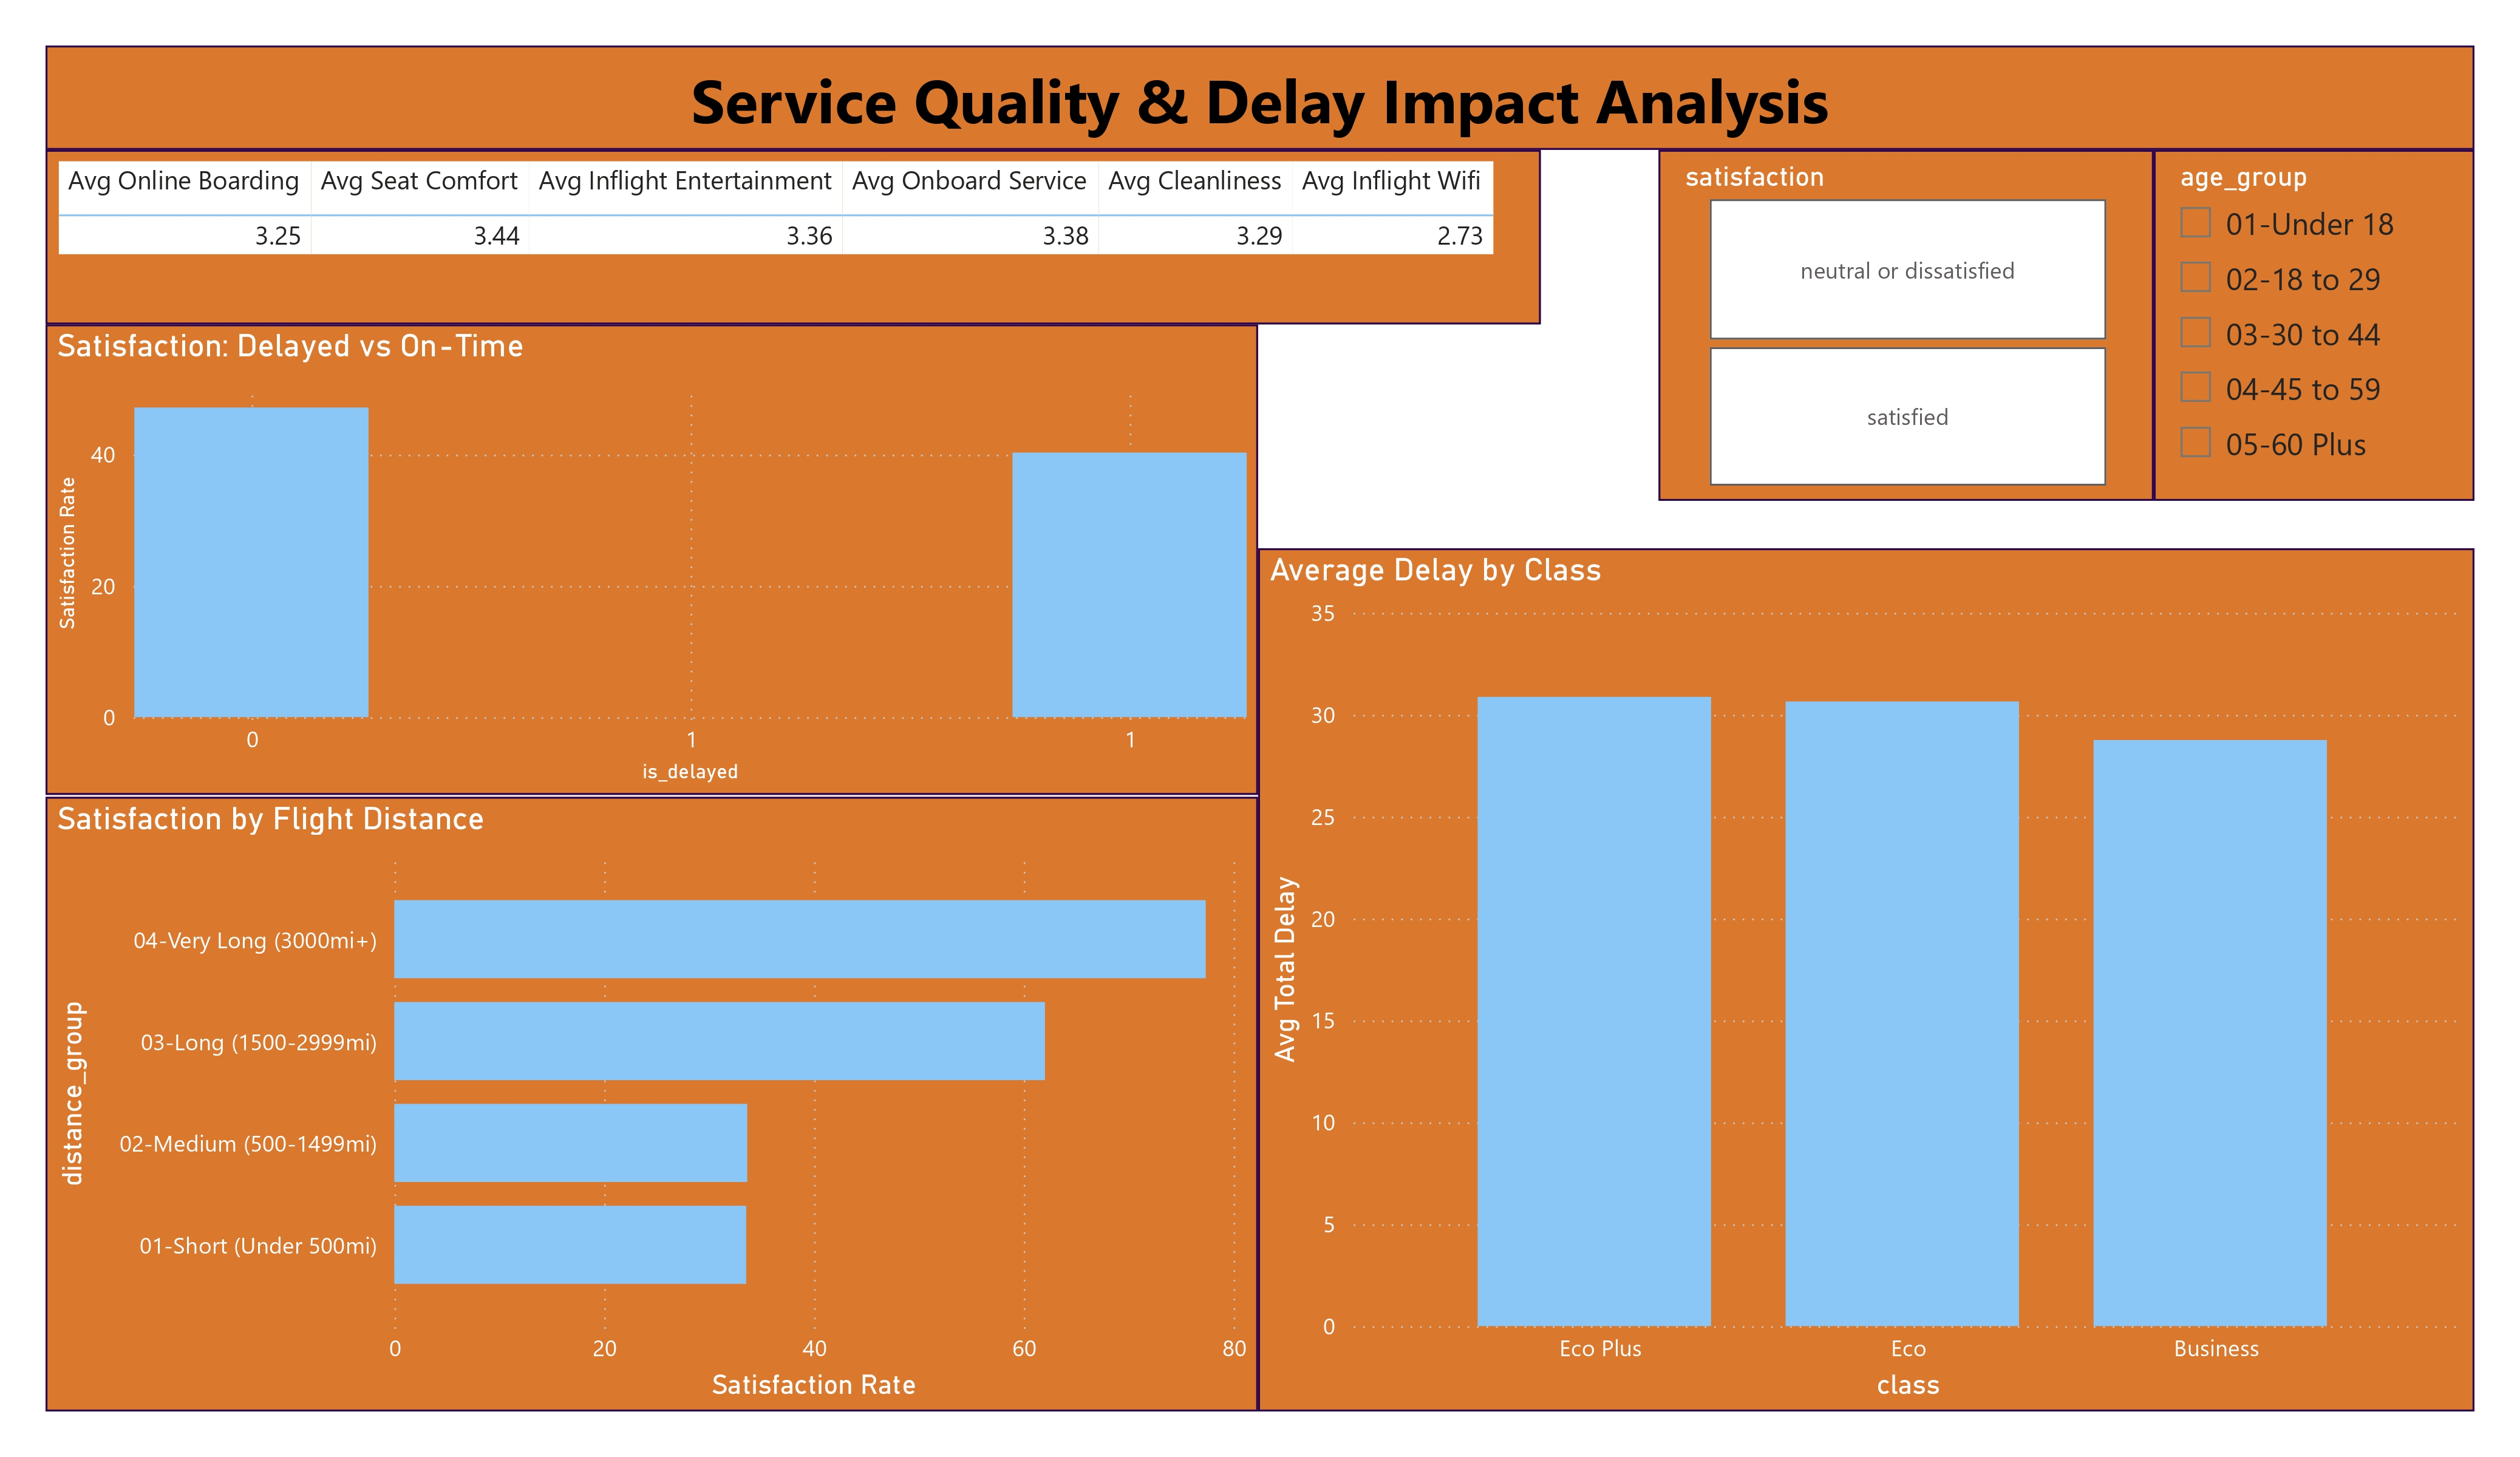

This screenshot's page, from the dashboard's own definition file:
{"tool":"powerbi","page":{"name":"Service Quality & Delay Impact","canvas":[1280,720],"ordinal":1},"visuals":[{"type":"textbox","box":[0,0,1280.3,54.6],"z":0},{"type":"tableEx","fields":{"Values":["airline_project airline_satisfaction.Avg Online Boarding","airline_project airline_satisfaction.Avg Seat Comfort","airline_project airline_satisfaction.Avg Inflight Entertainment","airline_project airline_satisfaction.Avg Onboard Service","airline_project airline_satisfaction.Avg Cleanliness","airline_project airline_satisfaction.Avg Inflight Wifi"]},"box":[0,54.5,788.1,92.4],"z":1000},{"type":"clusteredColumnChart","title":"Satisfaction: Delayed vs On-Time","fields":{"Category":["airline_project airline_satisfaction.is_delayed"],"Y":["airline_project airline_satisfaction.Satisfaction Rate"]},"box":[0,146.9,639,248.2],"z":2000},{"type":"clusteredBarChart","title":"Satisfaction by Flight Distance","fields":{"Y":["airline_project airline_satisfaction.Satisfaction Rate"],"Category":["airline_project airline_satisfaction.distance_group"]},"box":[0,395.6,639.4,324.7],"z":3000},{"type":"clusteredColumnChart","title":"Average Delay by Class","fields":{"Category":["airline_project airline_satisfaction.class"],"Y":["airline_project airline_satisfaction.Avg Total Delay"]},"box":[639.4,265,640.6,455.3],"z":4000},{"type":"slicer","fields":{"Values":["airline_project airline_satisfaction.age_group"]},"box":[1110.9,54.7,169.2,185.3],"z":5000},{"type":"slicer","fields":{"Values":["airline_project airline_satisfaction.satisfaction"]},"box":[849.8,55.2,261.5,184.8],"z":6000}]}

Visuals, with their boxes in screenshot pixels (x1, y1, x2, y2):
textbox: (x1=66, y1=39, x2=2464, y2=141)
tableEx - airline_project airline_satisfaction.Avg Online Boarding x airline_project airline_satisfaction.Avg Seat Comfort: (x1=66, y1=141, x2=1542, y2=314)
"Satisfaction: Delayed vs On-Time" clusteredColumnChart: (x1=66, y1=314, x2=1262, y2=779)
"Satisfaction by Flight Distance" clusteredBarChart: (x1=66, y1=780, x2=1263, y2=1388)
"Average Delay by Class" clusteredColumnChart: (x1=1263, y1=535, x2=2463, y2=1388)
slicer - airline_project airline_satisfaction.age_group: (x1=2146, y1=142, x2=2463, y2=489)
slicer - airline_project airline_satisfaction.satisfaction: (x1=1657, y1=143, x2=2147, y2=489)
